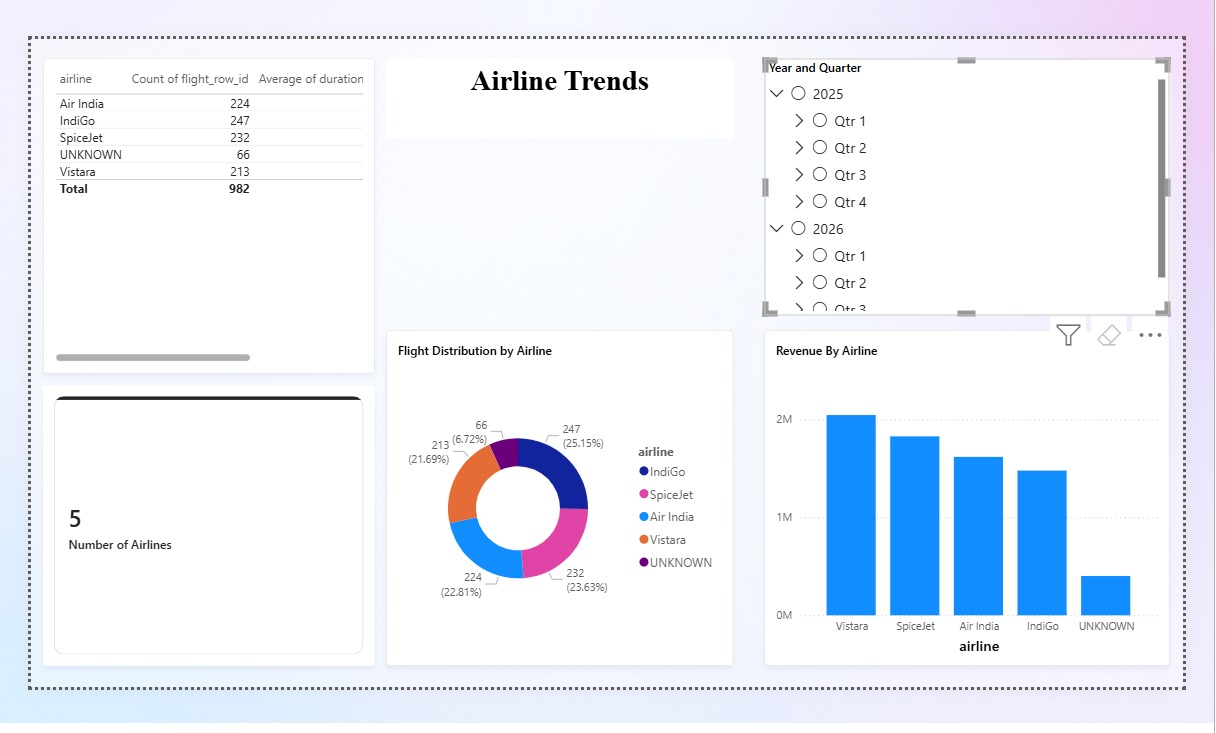

The dashboard page shown, as its layout file describes it:
{"tool":"powerbi","page":{"name":"Airline Trends","canvas":[1280,720],"ordinal":2},"visuals":[{"type":"cardVisual","fields":{"Data":["gold_flat_table.Number of Airlines"]},"box":[13.3,385,368.3,311.7],"z":0},{"type":"donutChart","title":"Flight Distribution by Airline","fields":{"Category":["gold_flat_table.airline"],"Y":["Count(gold_flat_table.flight_row_id)"]},"box":[395,323.3,385,373.3],"z":1},{"type":"clusteredColumnChart","title":"Revenue By Airline","fields":{"Category":["gold_flat_table.airline"],"Y":["Sum(gold_flat_table.total_amount)"]},"box":[815,323.3,450,373.3],"z":2},{"type":"tableEx","fields":{"Values":["gold_flat_table.airline","Count(gold_flat_table.flight_row_id)","Avg(gold_flat_table.duration_minutes)","Sum(gold_flat_table.total_amount)"]},"box":[13.3,21.7,368.3,350],"z":3},{"type":"listSlicer","fields":{"Values":["gold_flat_table.booking_date.Variation.Date Hierarchy.Year","gold_flat_table.booking_date.Variation.Date Hierarchy.Quarter","gold_flat_table.booking_date.Variation.Date Hierarchy.Month","gold_flat_table.booking_date.Variation.Date Hierarchy.Day"]},"box":[815,21.7,450,285],"z":4},{"type":"textbox","box":[395,21.7,385,88.3],"z":5}]}

Visuals, with their boxes on the page's 1280x720 design canvas (x1, y1, x2, y2). These are canvas units, not pixel positions in the 1216x733 screenshot, which may show the page scaled, cropped or inside an application window:
cardVisual - gold_flat_table.Number of Airlines: (x1=13, y1=385, x2=382, y2=697)
"Flight Distribution by Airline" donutChart: (x1=395, y1=323, x2=780, y2=697)
"Revenue By Airline" clusteredColumnChart: (x1=815, y1=323, x2=1265, y2=697)
tableEx - gold_flat_table.airline x Count(gold_flat_table.flight_row_id): (x1=13, y1=22, x2=382, y2=372)
listSlicer - gold_flat_table.booking_date.Variation.Date Hierarchy.Year x gold_flat_table.booking_date.Variation.Date Hierarchy.Quarter: (x1=815, y1=22, x2=1265, y2=307)
textbox: (x1=395, y1=22, x2=780, y2=110)
